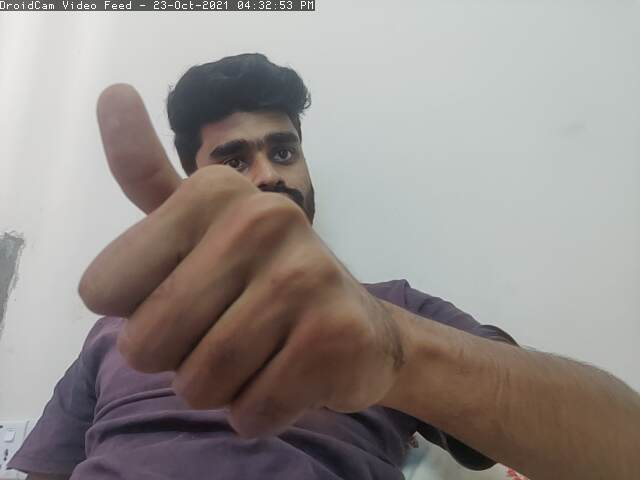ThumbsUp: (75, 84, 387, 435)
